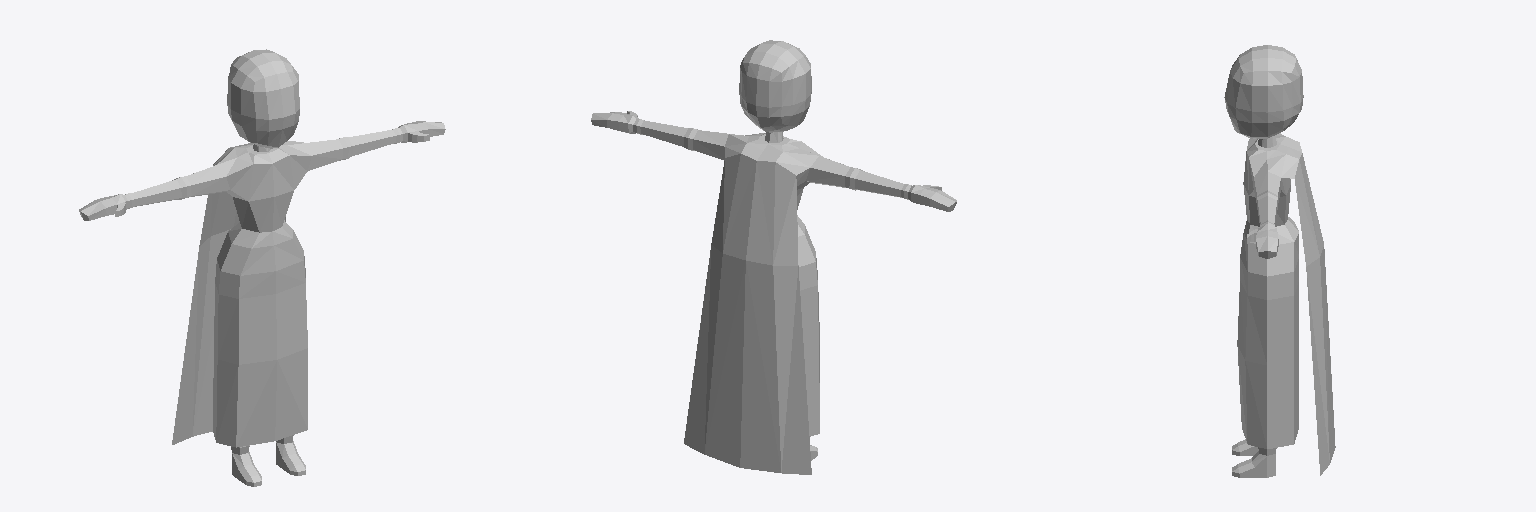
Rendered from NEW-Wood-Dummy-2.obj.
3 renders of one model, left to right at view 1: azimuth 30°, elevation 25°; view 2: azimuth 150°, elevation 25°; view 3: azimuth 270°, elevation 25°, orthographic.
Visible parts, largest first — view 1: Cylinder, Cube; view 2: Cylinder, Cube; view 3: Cylinder, Cube.
Boxes of the visible parts, box(x1,y1,x2,y2) form: Cylinder: box(79, 121, 445, 486); Cube: box(227, 49, 299, 148); Cylinder: box(591, 111, 956, 474); Cube: box(739, 40, 811, 132); Cylinder: box(1232, 133, 1335, 477); Cube: box(1224, 45, 1303, 138).
Bounding box in the file's own units: 7.59 × 8.28 × 2.01.